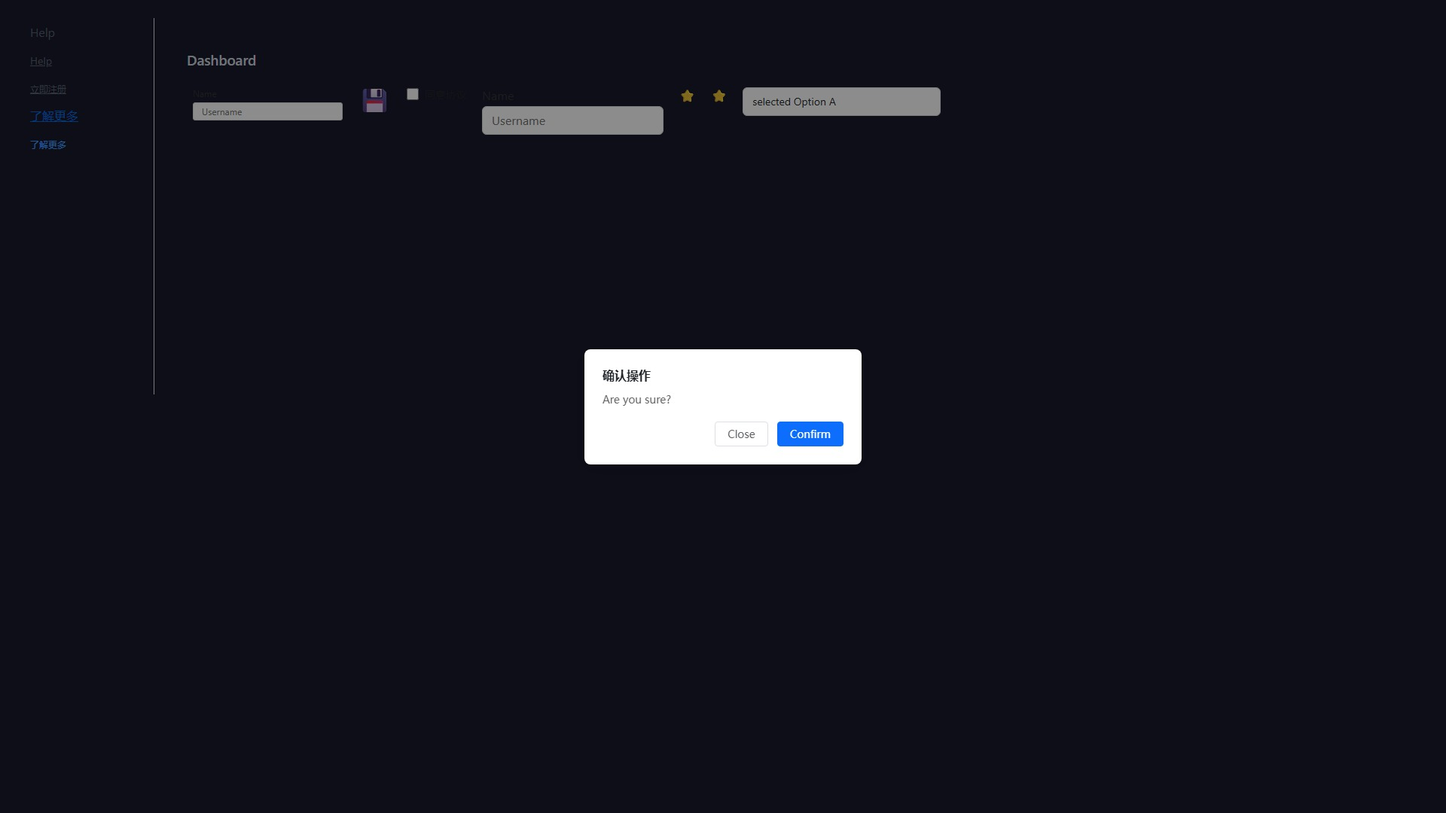button: (777, 421, 844, 446), (715, 421, 768, 446)
checkbox: (406, 88, 419, 100)
icon: (358, 87, 391, 111), (425, 87, 467, 101), (679, 89, 695, 101), (711, 89, 727, 101)
input: (482, 106, 664, 135), (193, 102, 343, 120)
link: (30, 108, 78, 123), (30, 83, 66, 95), (30, 139, 66, 151), (30, 24, 55, 40), (30, 53, 52, 68)
modal: (0, 0, 1446, 813)
radio: (406, 87, 467, 101)
select: (743, 87, 941, 116)
